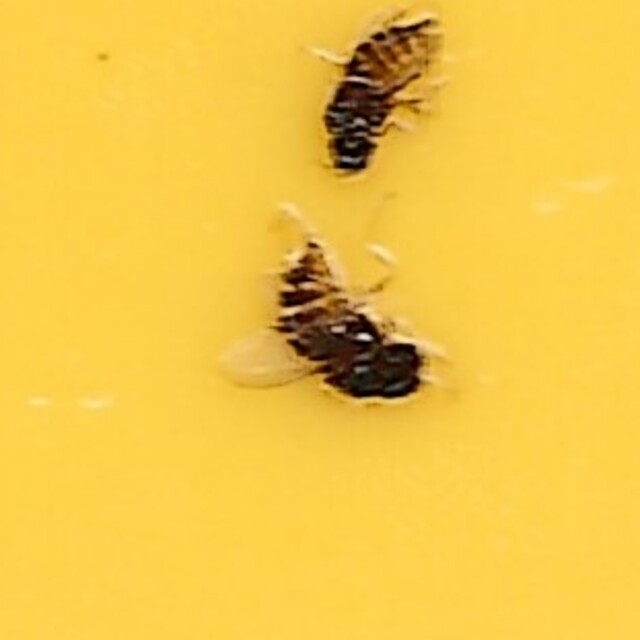Brachycera: (206, 213, 434, 427)
